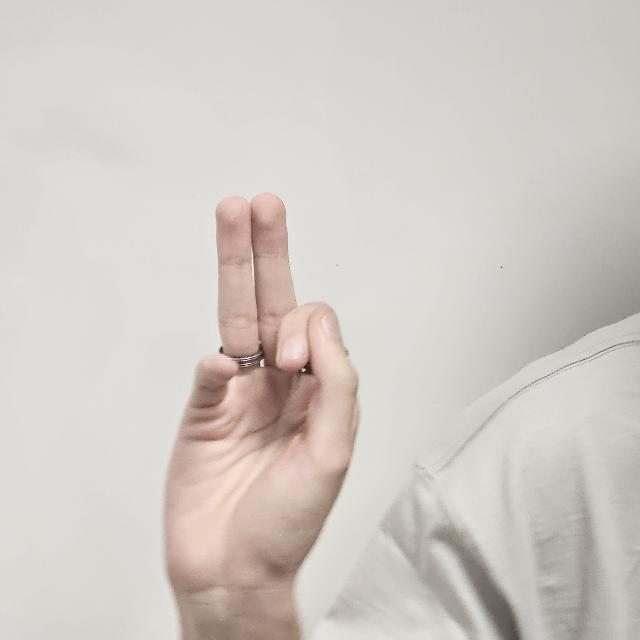R: (165, 192, 359, 612)
